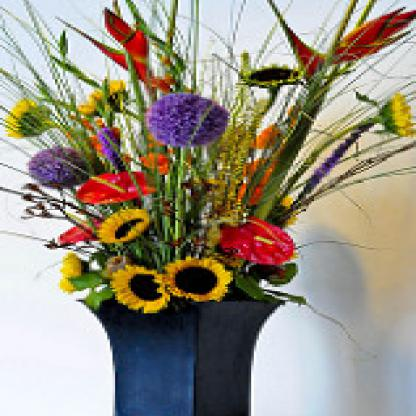SUN FLOWER: (1, 19, 407, 331)
